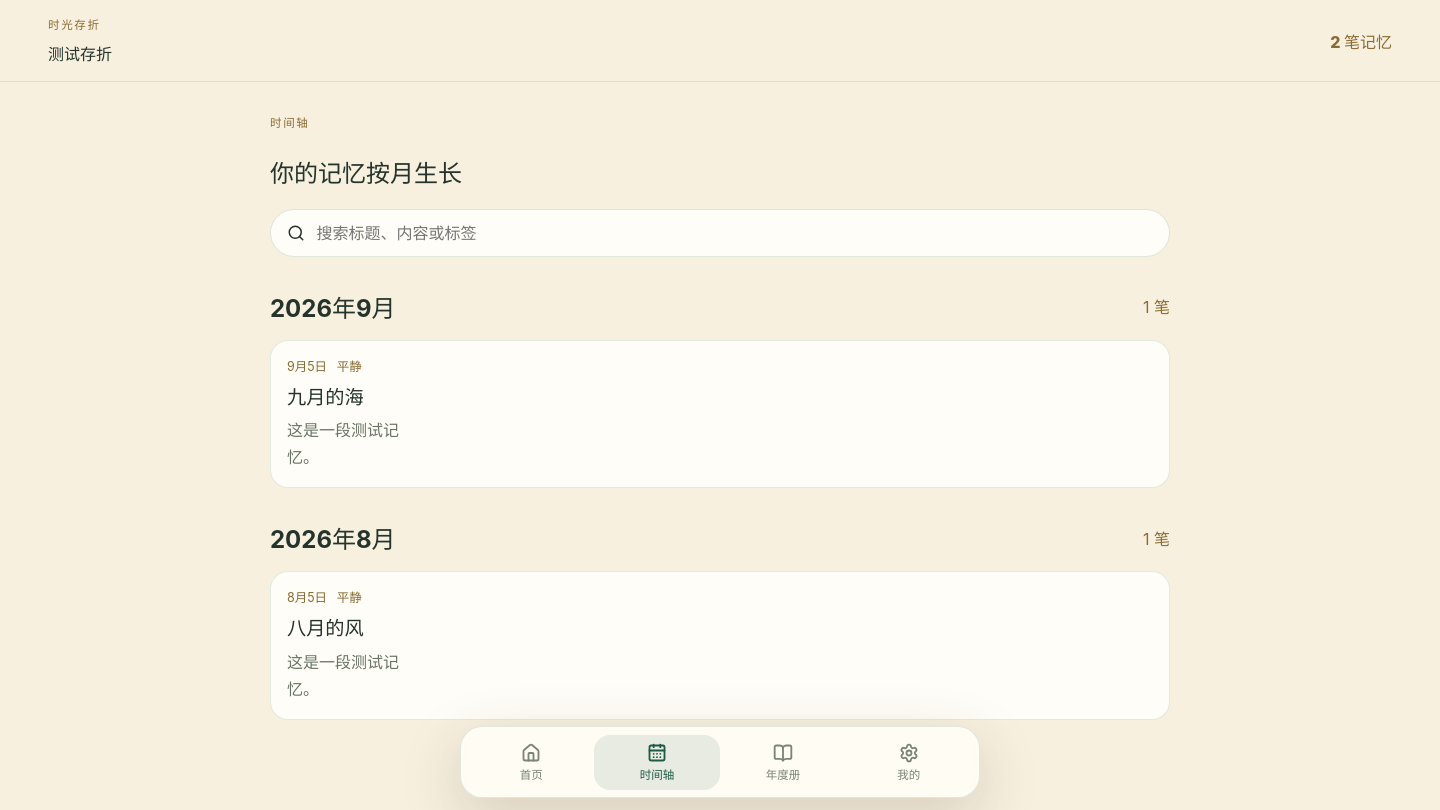
timeline › groups entries by month and filters by search
Expected: the heading "2026年9月" is shown, [270,288,396,324]
Expected: the heading "2026年8月" is shown, [270,520,396,555]
Step 1. Type "八月" into the field named "搜索记忆" → (734, 232), box [315,222,1153,244]
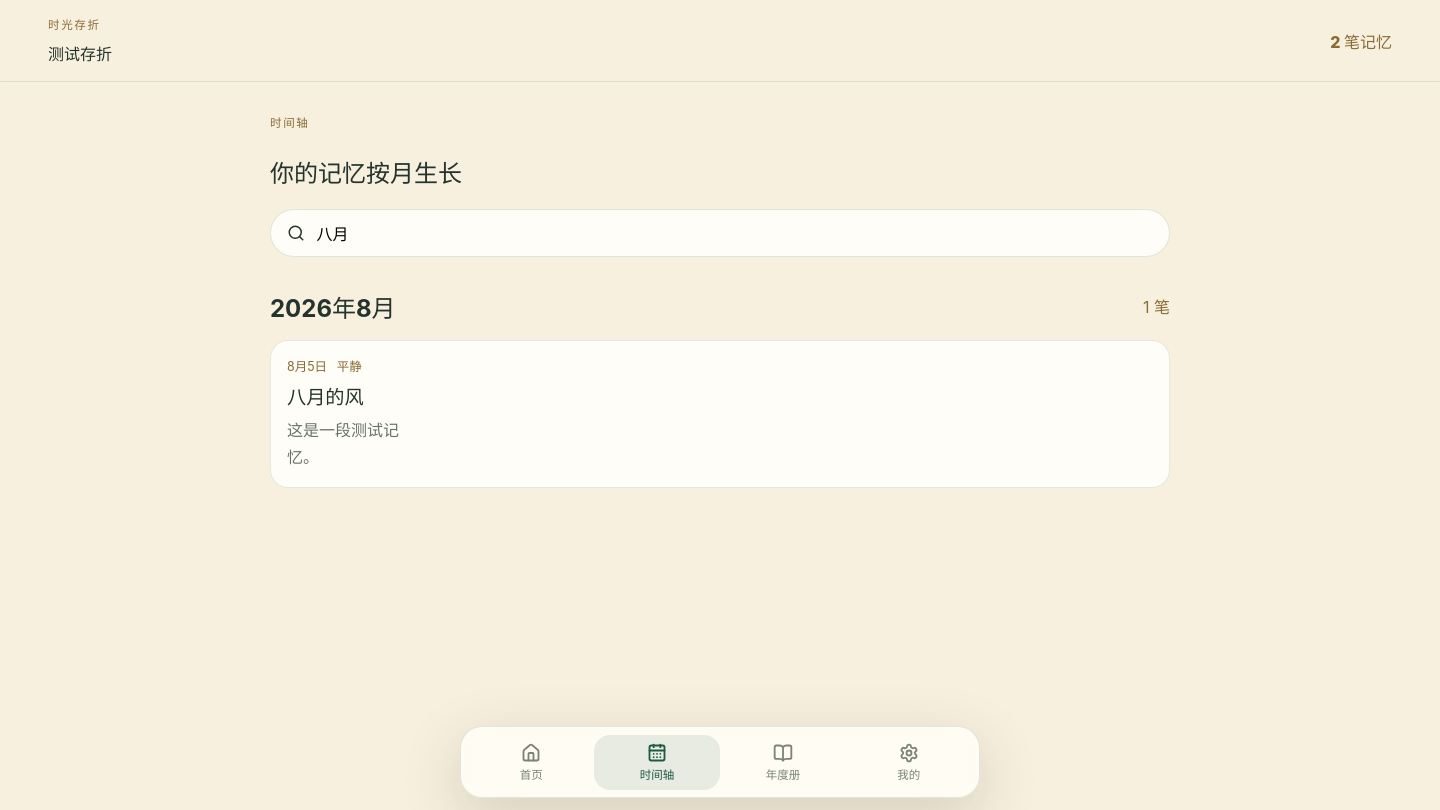
Expected: the heading "八月的风" is shown, [287,385,364,409]
Expected: the link "九月的海" is gone
